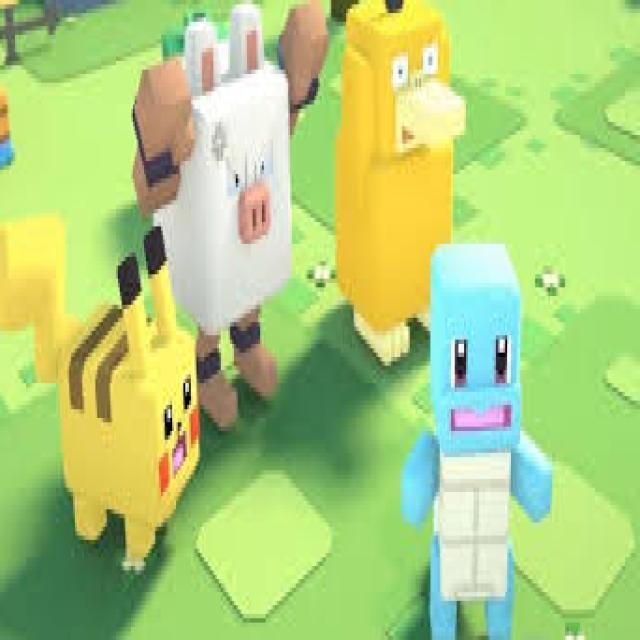Pikachu: (61, 292, 200, 550)
Primeape: (140, 19, 311, 388)
Psyduck: (337, 0, 457, 340)
Squirtle: (427, 244, 520, 640)
